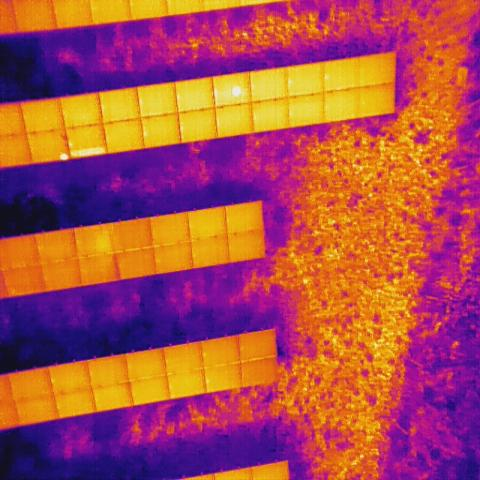fault: (70, 148, 105, 158), (230, 83, 243, 98), (57, 151, 69, 163)
